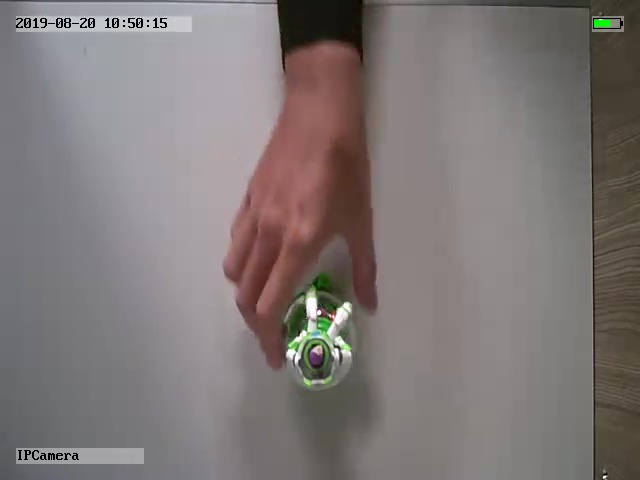buzz: (280, 274, 358, 392)
